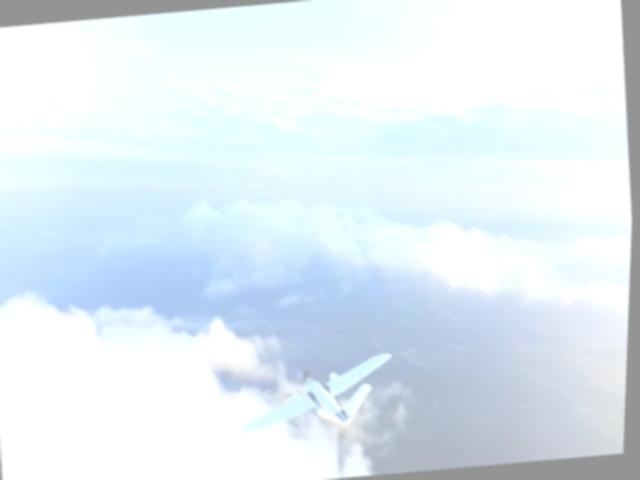uav: (235, 348, 403, 438)
